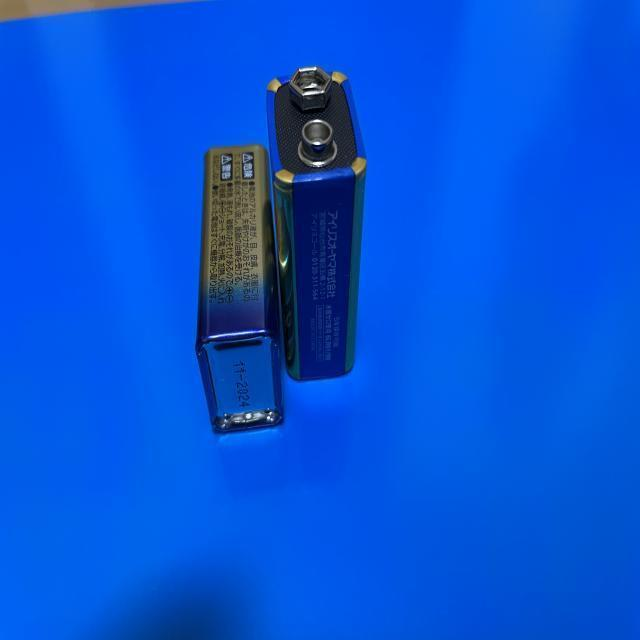9V: (267, 66, 368, 382), (195, 144, 283, 435)
